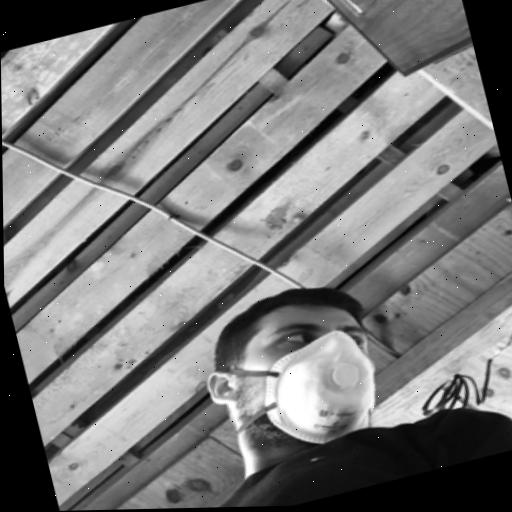mask: (214, 300, 393, 462)
